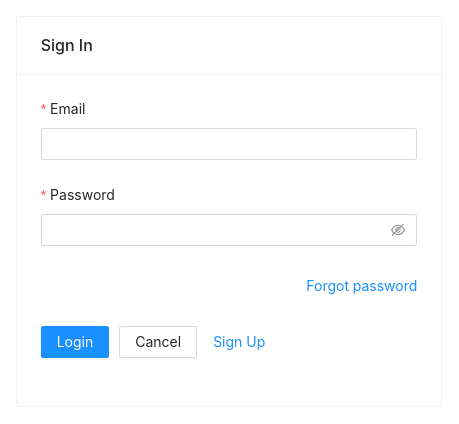
Scenario: Login › Should check renders an error message when submitting the form without a email and password
Click the button "Login": click(75, 342) [41,326,109,358]
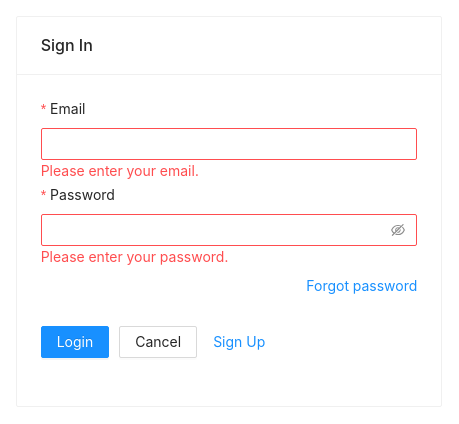
Expected: the text "Please enter your email." is shown, [41,162,199,179]
Expected: the text "Please enter your password." is shown, [41,248,228,265]
